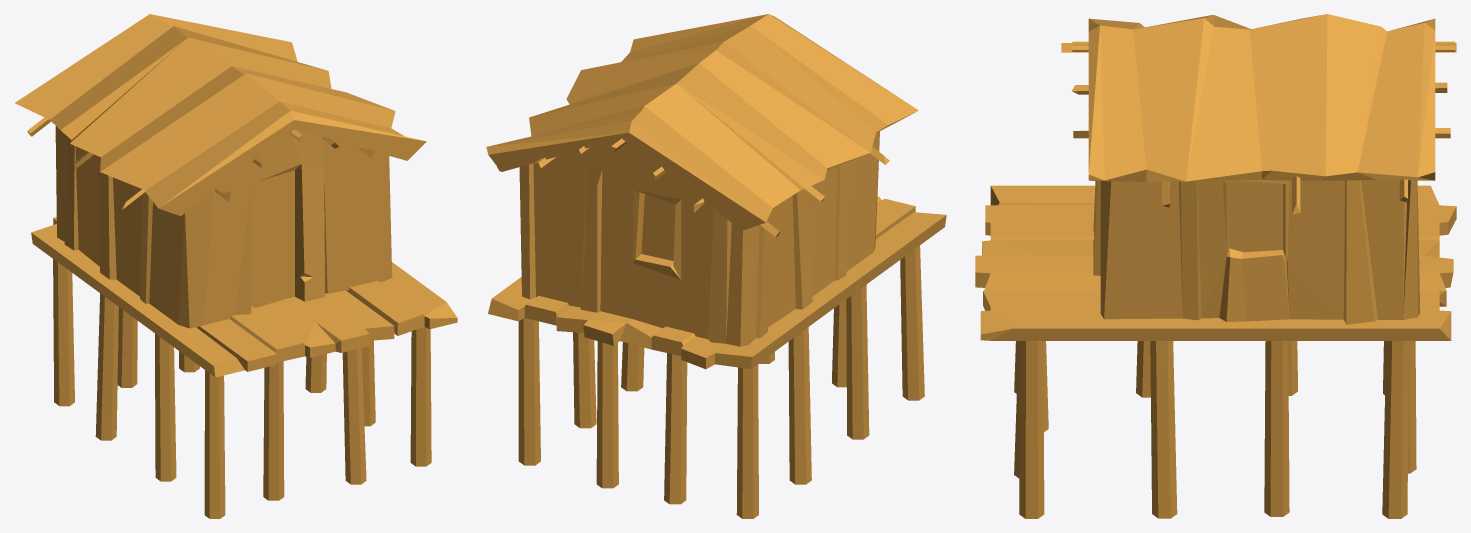
The model's file is pirate-hut-platform-small.fbx.
The picture shows the model from 3 angles, left to right: view 1: azimuth 30°, elevation 25°; view 2: azimuth 150°, elevation 25°; view 3: azimuth 270°, elevation 25°; orthographic projection. The views are drawn at different scales.
Visible parts, largest first — view 1: pirate-hut-platform-small; view 2: pirate-hut-platform-small; view 3: pirate-hut-platform-small.
Part boxes in pixels (<box>): pirate-hut-platform-small: <box>15,14,457,518</box>; pirate-hut-platform-small: <box>486,14,946,518</box>; pirate-hut-platform-small: <box>975,14,1456,518</box>.
Size of the model in its own units: 4.85 by 5.91 by 5.91.
